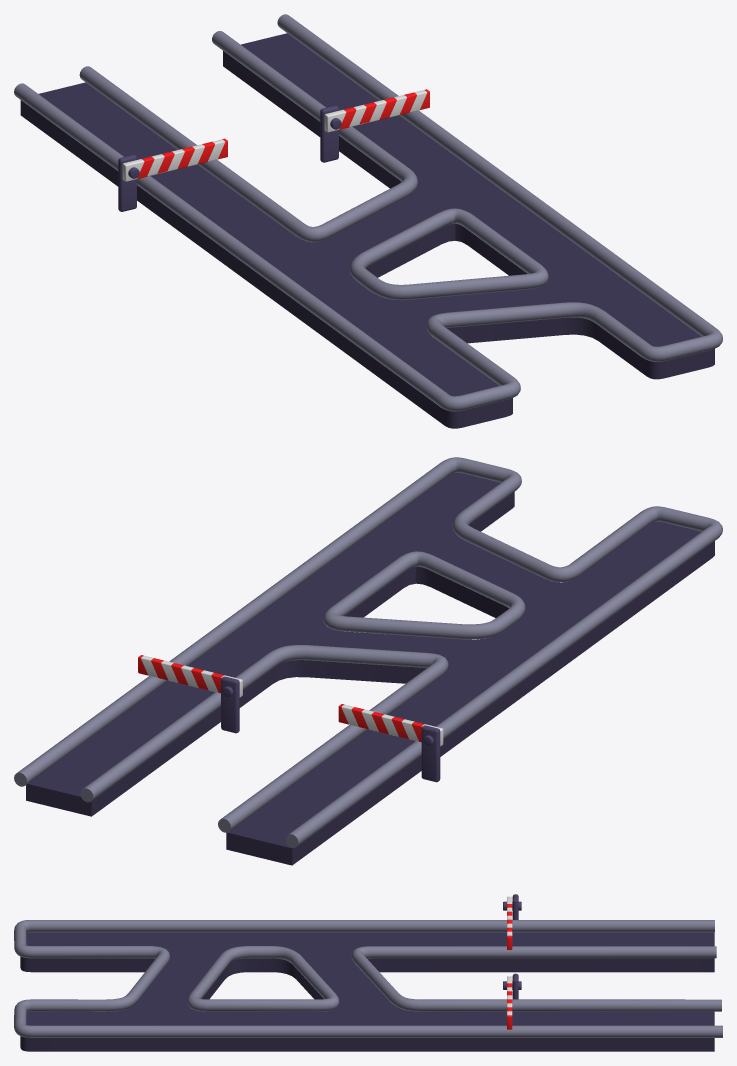
File: platform.FBX
The picture shows the model from 3 angles, top to bottom: view 1: azimuth 30°, elevation 25°; view 2: azimuth 150°, elevation 25°; view 3: azimuth 270°, elevation 25°; orthographic projection. The views are drawn at different scales.
Visible parts, largest first — view 1: Box002, Line003, ChamferCyl002, ChamferCyl001, ChamferBox003, ChamferBox002; view 2: Box002, Line003, ChamferCyl001, ChamferCyl002, ChamferBox002, ChamferBox003; view 3: Box002, Line003, ChamferCyl001, ChamferCyl002.
Boxes of the visible parts, box(x1,y1,x2,y2) form: Box002: box(20, 33, 714, 428); Line003: box(14, 14, 722, 411); ChamferCyl002: box(324, 89, 429, 132); ChamferCyl001: box(122, 138, 227, 181); ChamferBox003: box(320, 105, 338, 162); ChamferBox002: box(118, 154, 136, 211); Box002: box(26, 472, 714, 865); Line003: box(14, 457, 722, 847); ChamferCyl001: box(338, 704, 443, 746); ChamferCyl002: box(138, 655, 242, 697); ChamferBox002: box(421, 725, 440, 782); ChamferBox003: box(221, 676, 239, 733); Box002: box(20, 932, 714, 1051); Line003: box(14, 920, 722, 1037); ChamferCyl001: box(503, 896, 521, 949); ChamferCyl002: box(503, 976, 521, 1029).
Bounding box in the file's own units: 92.47 × 15.34 × 230.
